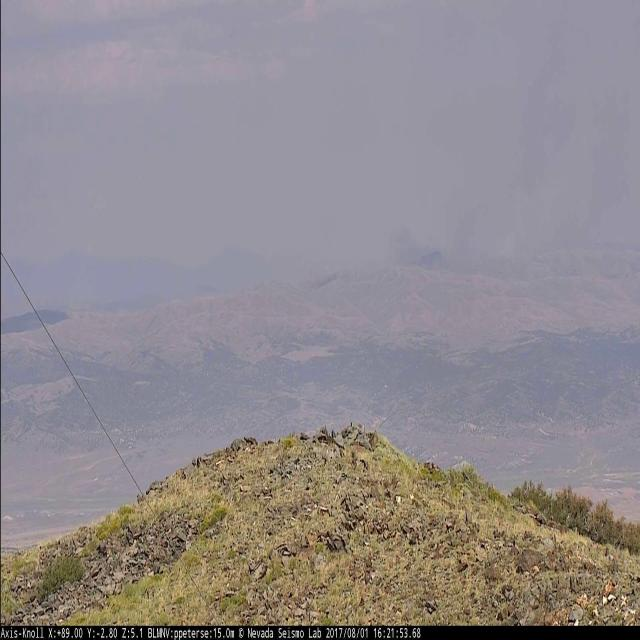smoke: (384, 22, 640, 258)
